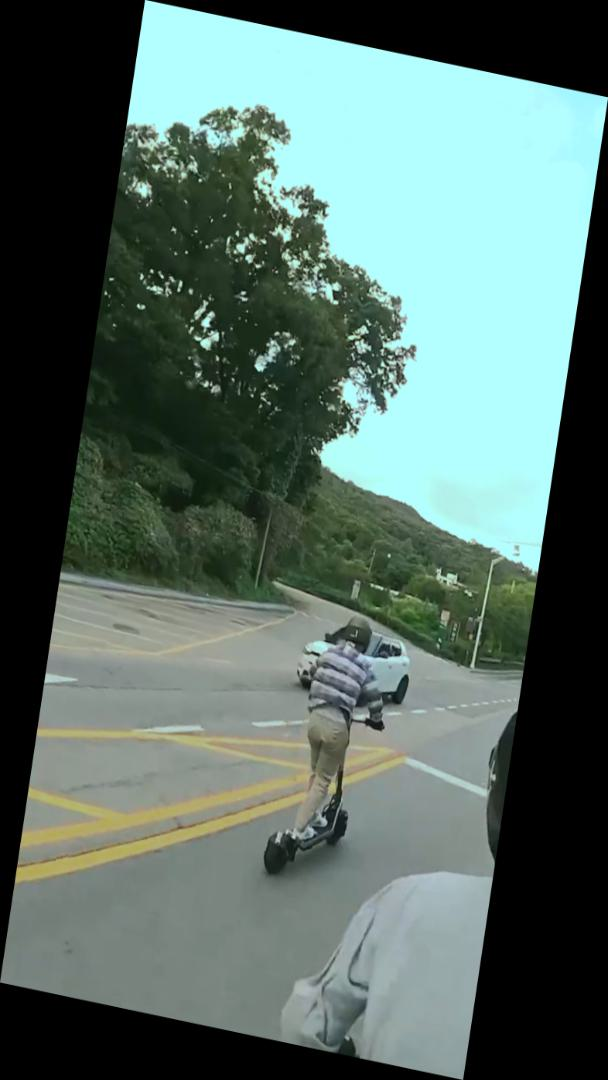helmet: (257, 603, 400, 894)
